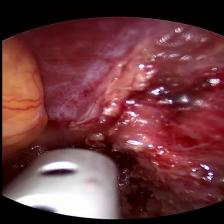Irrigator: (0, 144, 126, 221)
